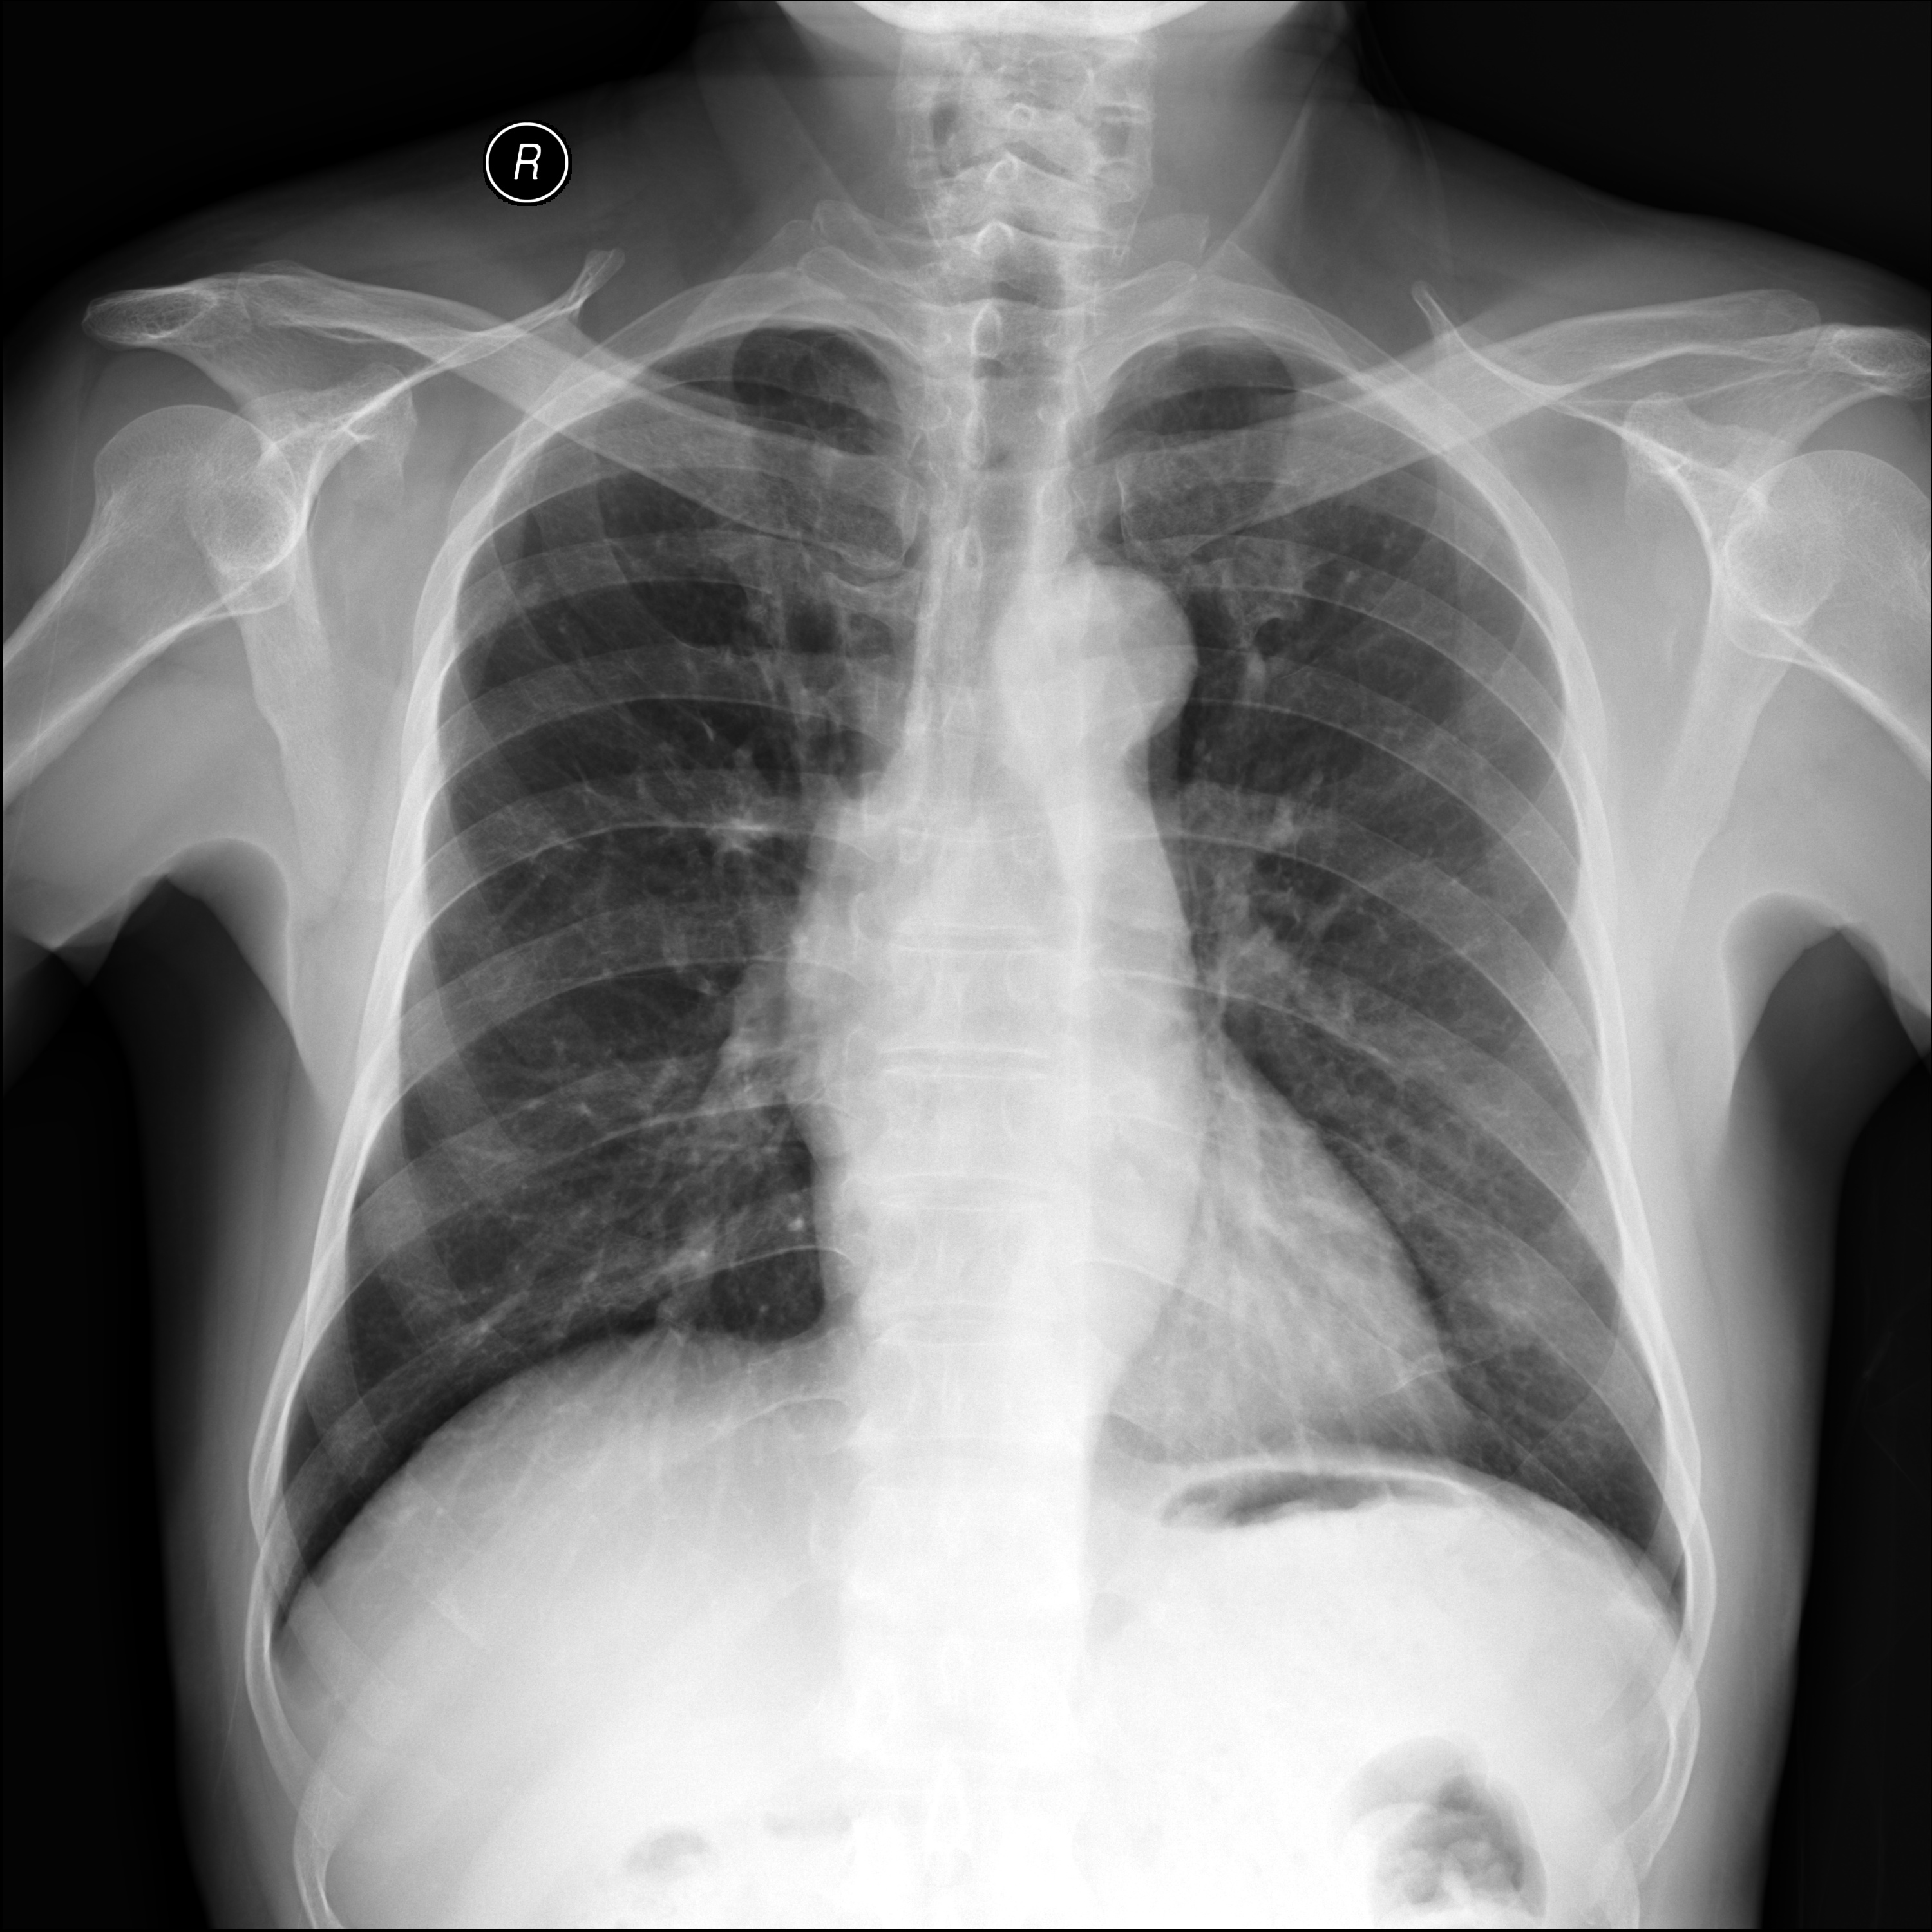nodule: (485, 538, 586, 653)
